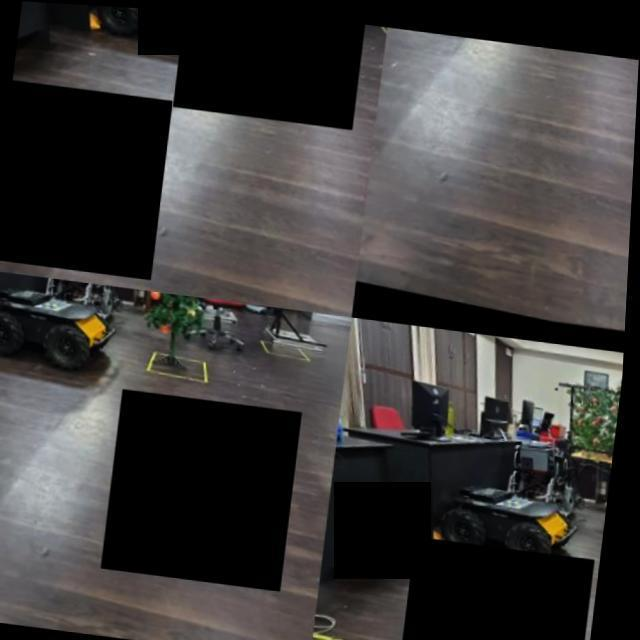tree: (510, 333, 628, 640), (120, 286, 220, 379)
